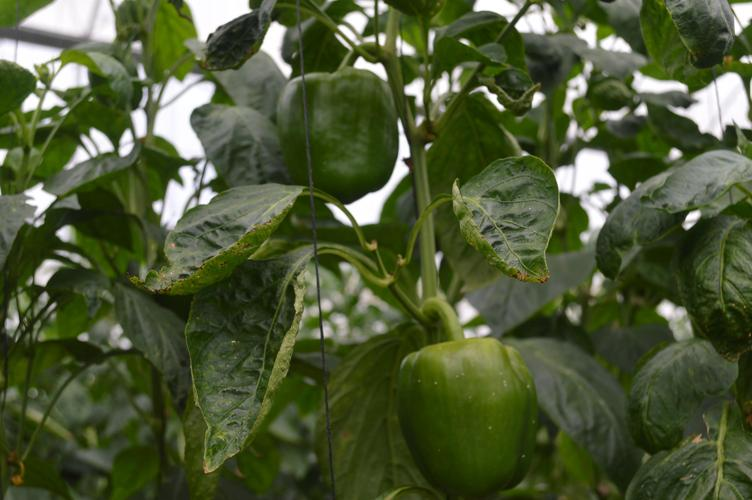BellPepper: (395, 338, 537, 492), (276, 69, 396, 201)
